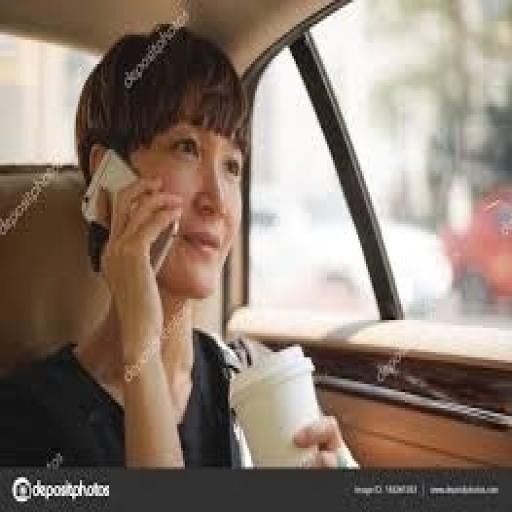calling: (0, 19, 362, 469)
